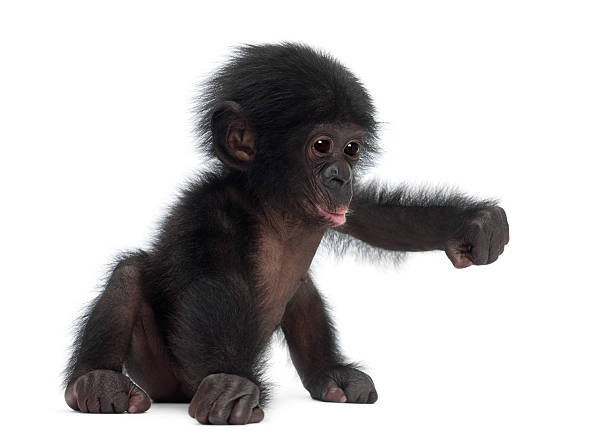chimpanzee: (187, 22, 376, 254)
